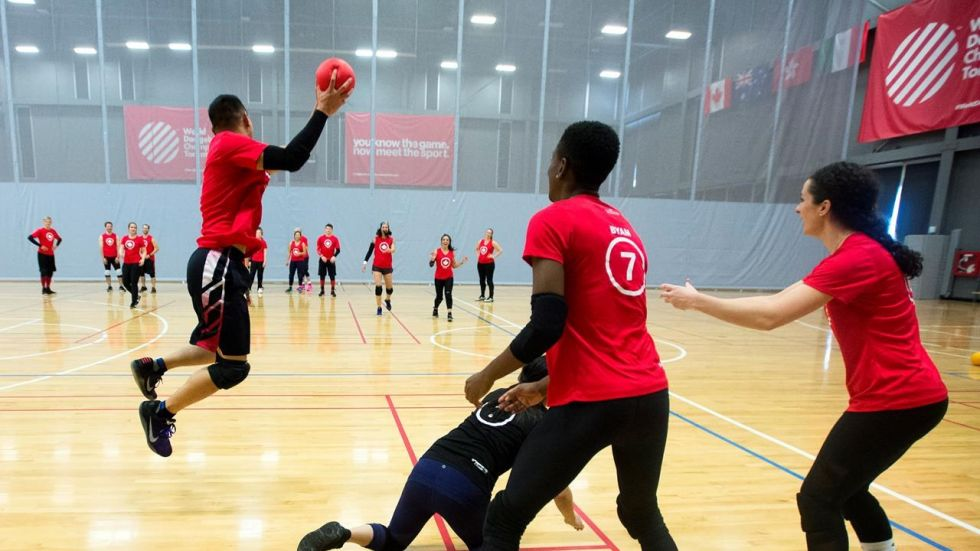red ball: (312, 57, 360, 106)
